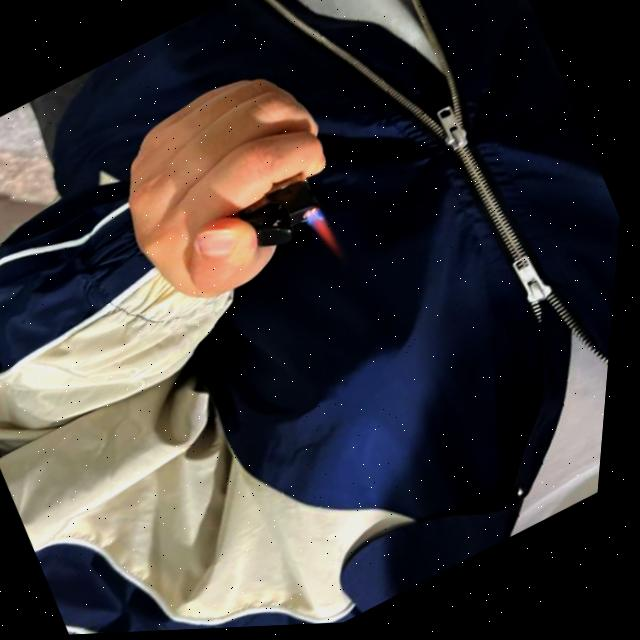Fire: (303, 212, 348, 262)
